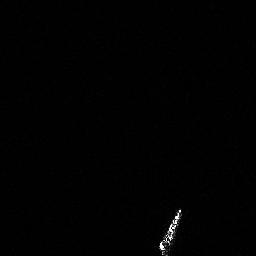ship: (154, 204, 185, 256)
